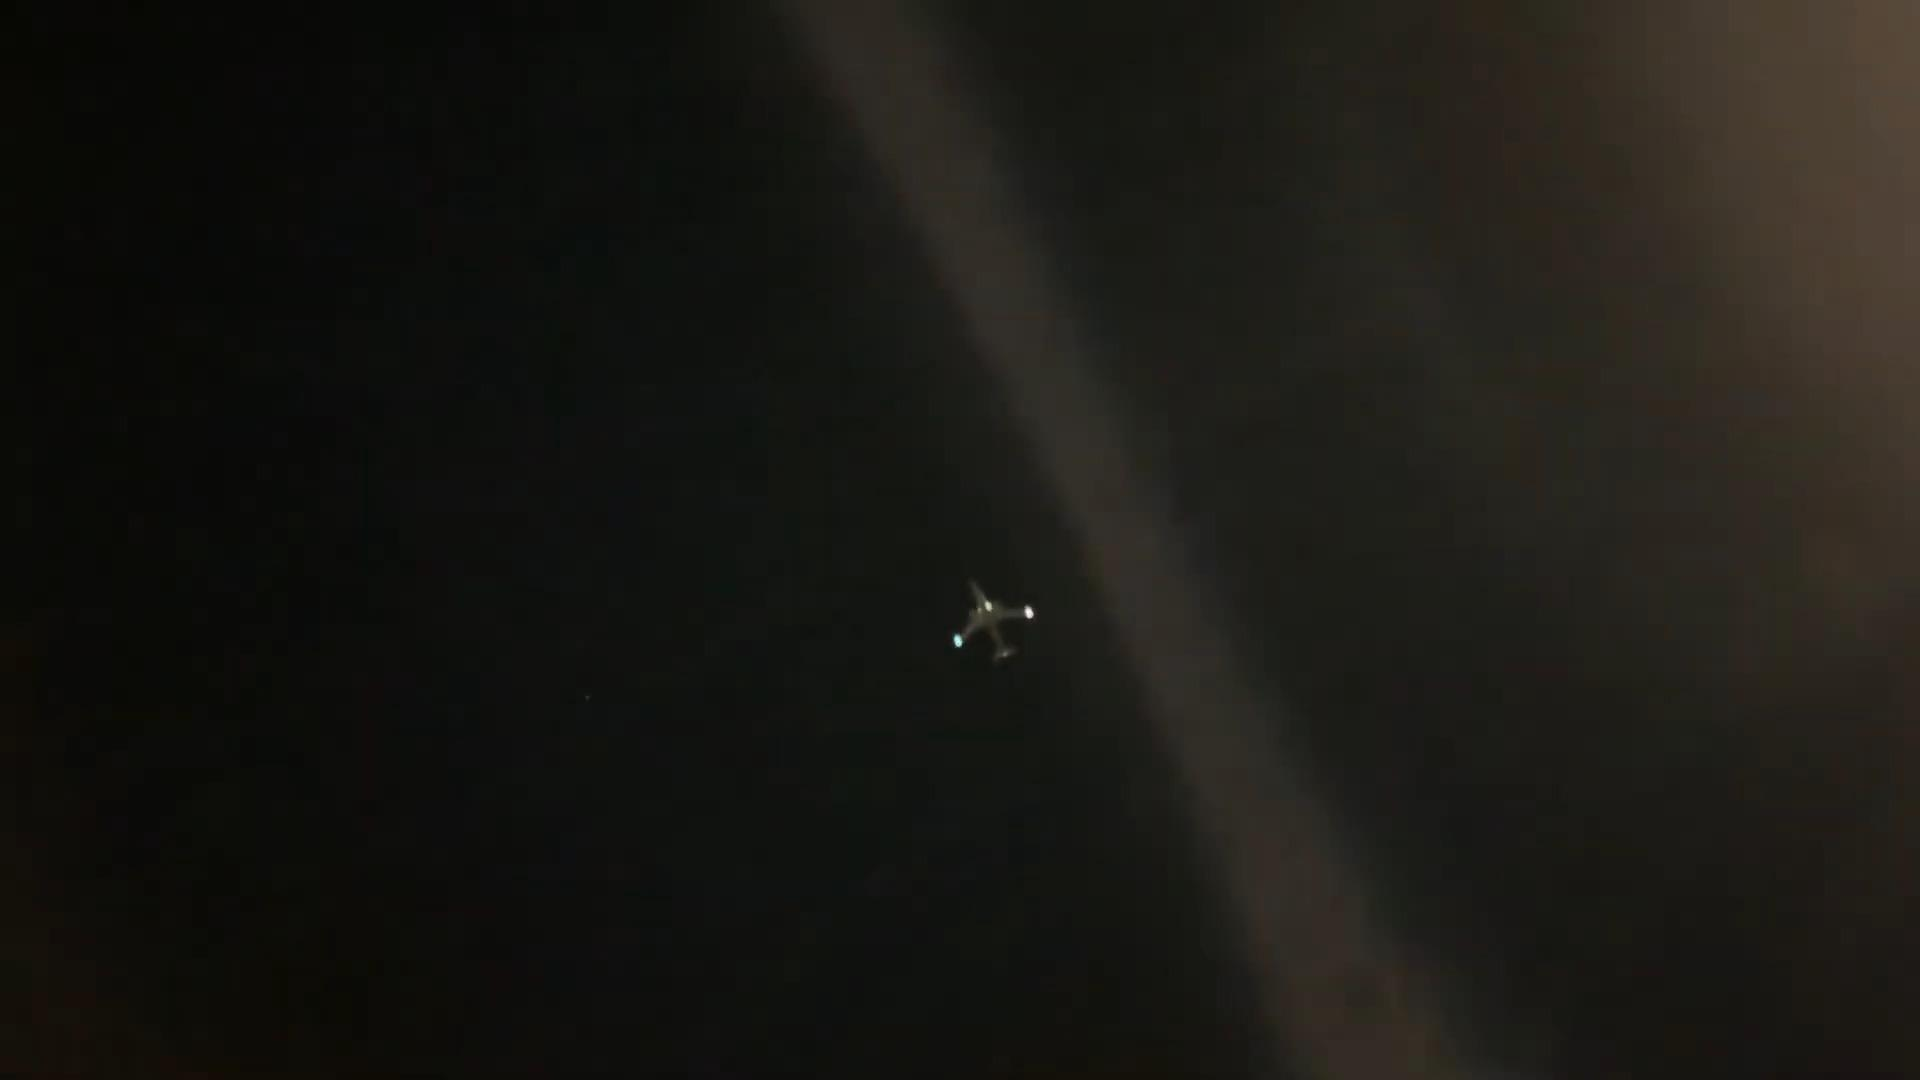Plane: (869, 554, 1096, 692)
